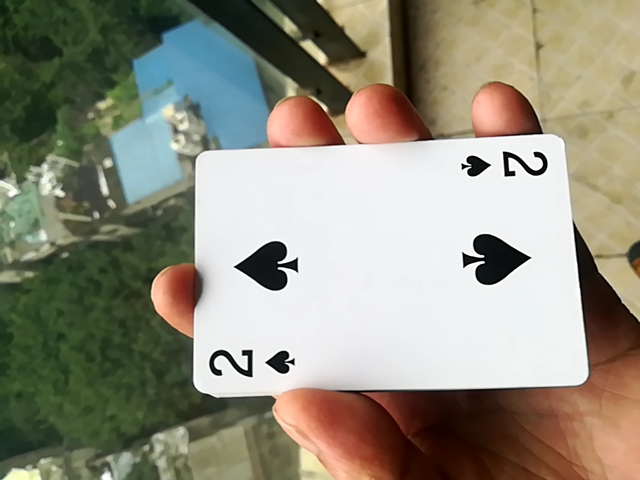ht 2: (176, 136, 582, 409)
